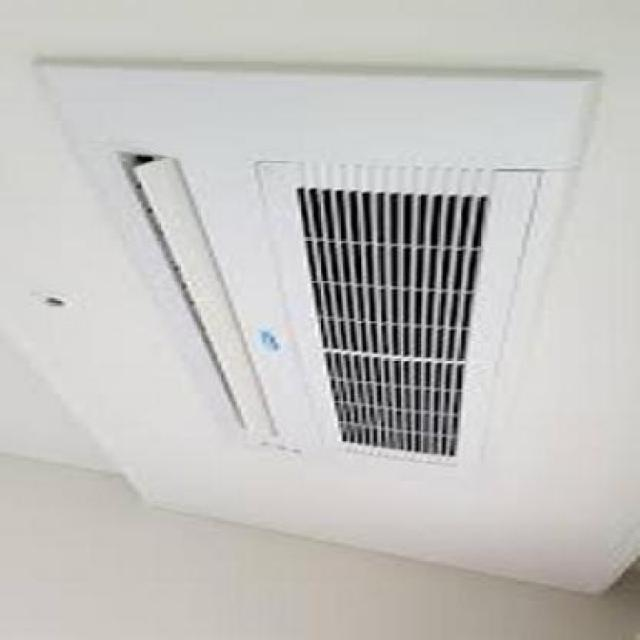ac: (41, 55, 607, 530)
